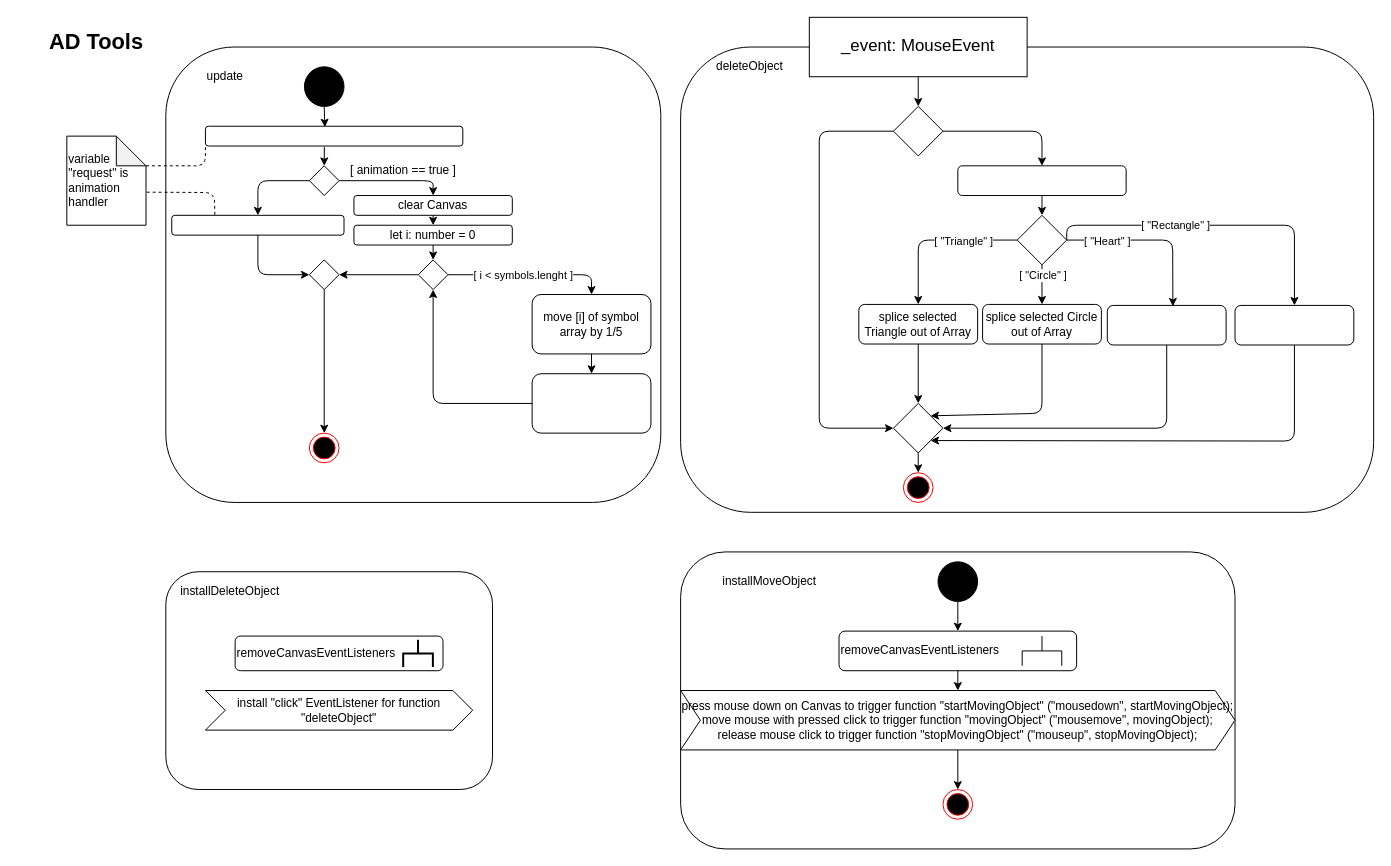
This 1391x866 diagram has some shape labels left out. The box of each missing label's shape, as (x1, y1, x2, y2) in pixels:
cancelAnimationFrame(request): (171, 214, 344, 235)
draw [i] of symbol array: (531, 373, 651, 433)
let request = requestAnimationFrame(update): (204, 125, 463, 146)
let type = symbols[i].getType(): (957, 165, 1126, 196)
splice selected Heart out of Array: (1106, 304, 1226, 345)
splice selected Rectangleout of Array: (1234, 304, 1354, 345)
